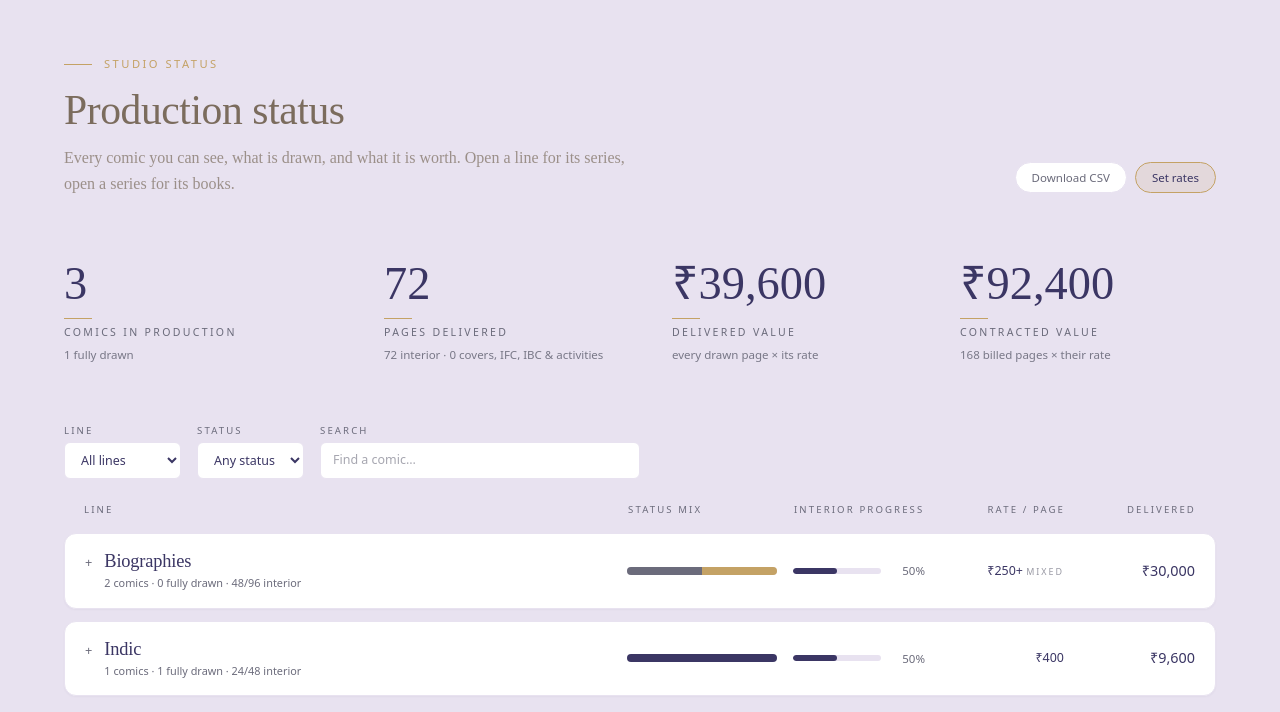
Test: ProductionDashboard › says so plainly when a filter matches nothing
Type "zzzz" into the field named "Find a comic".
click(480, 461); type("zzzz")  # box [320,442,640,479]
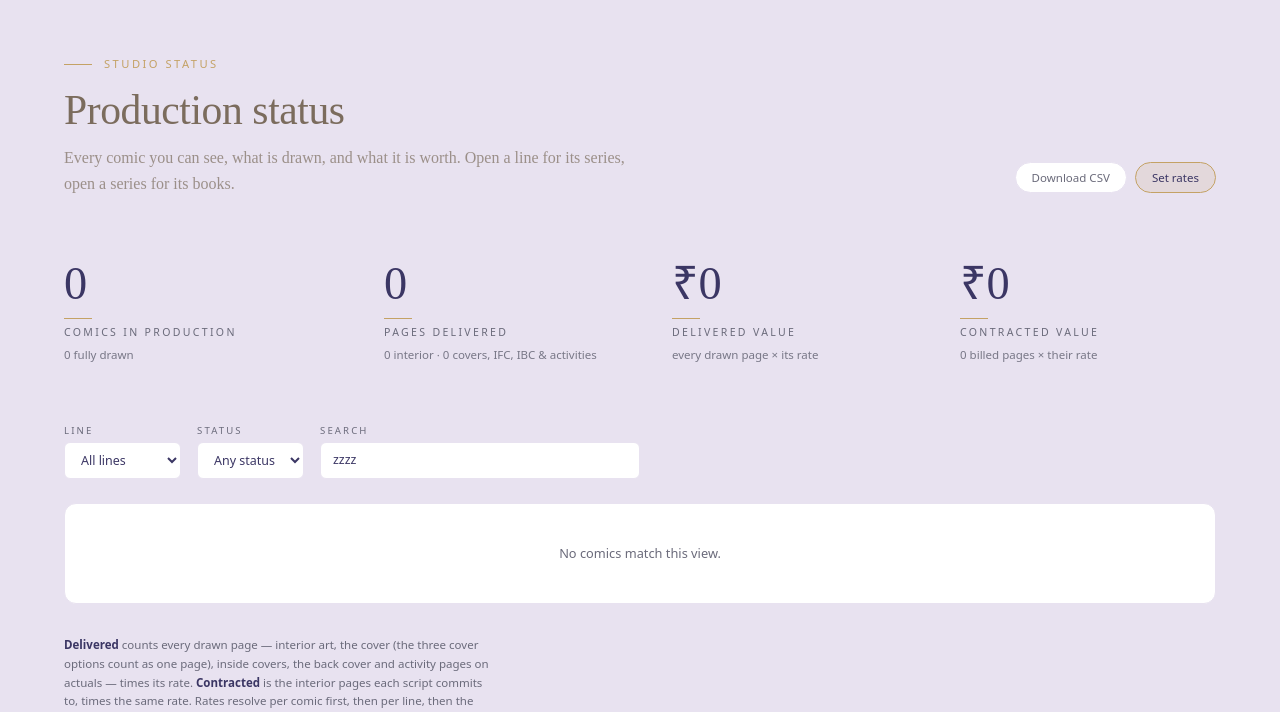
Expected: the text "No comics match this view." is shown, [64,503,1216,604]
